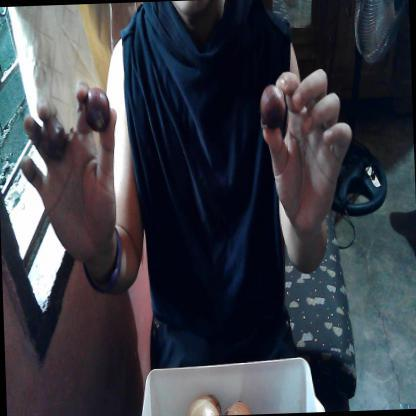onion: (82, 74, 120, 136), (252, 73, 288, 135), (36, 110, 69, 168)
